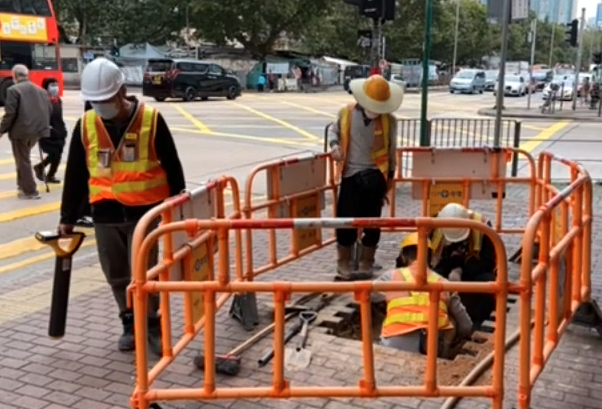Hard Hat: (79, 59, 131, 119), (350, 77, 395, 120), (436, 205, 473, 245), (397, 232, 434, 260)
Person: (77, 60, 185, 355), (332, 77, 394, 276), (5, 64, 45, 199), (46, 77, 67, 184)
Vest: (79, 102, 171, 202), (383, 253, 454, 335), (335, 100, 394, 184)
